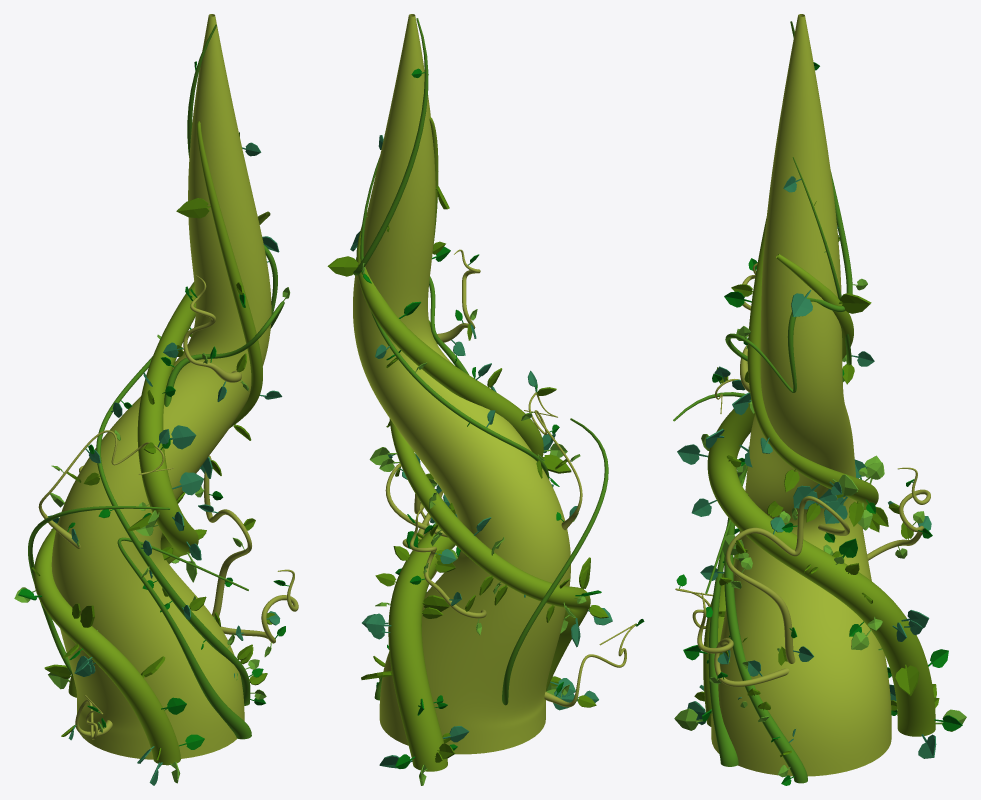
File: Bohnenranke 1.fbx
3 renders of one model, left to right at view 1: azimuth 30°, elevation 25°; view 2: azimuth 150°, elevation 25°; view 3: azimuth 270°, elevation 25°, orthographic. The views are drawn at different scales.
Parts seen in each view (by area): view 1: NurbsPath.001, NurbsPath.003, NurbsPath.002, NurbsPath.004, NurbsPath.009, NurbsPath.014, NurbsPath.005, NurbsPath.010, NurbsPath.006, NurbsPath.011, NurbsPath.008, NurbsPath.007; view 2: NurbsPath.001, NurbsPath.002, NurbsPath.003, NurbsPath.014, NurbsPath.010, NurbsPath.004, NurbsPath.012, NurbsPath.007, NurbsPath.005, NurbsPath.006, NurbsPath.011; view 3: NurbsPath.001, NurbsPath.002, NurbsPath.003, NurbsPath.004, NurbsPath.005, NurbsPath.009, NurbsPath.014, NurbsPath.008, NurbsPath.012.
Boxes of the visible parts, <box> form: NurbsPath.001: <box>51,14,271,759</box>; NurbsPath.003: <box>33,121,262,765</box>; NurbsPath.002: <box>68,211,270,697</box>; NurbsPath.004: <box>96,132,250,705</box>; NurbsPath.009: <box>117,537,251,739</box>; NurbsPath.014: <box>164,24,284,406</box>; NurbsPath.005: <box>196,455,251,616</box>; NurbsPath.010: <box>28,506,170,677</box>; NurbsPath.006: <box>38,430,173,548</box>; NurbsPath.011: <box>183,275,241,382</box>; NurbsPath.008: <box>220,569,298,643</box>; NurbsPath.007: <box>75,695,112,739</box>; NurbsPath.001: <box>353,14,570,754</box>; NurbsPath.002: <box>356,213,543,771</box>; NurbsPath.003: <box>389,117,590,691</box>; NurbsPath.014: <box>353,18,468,374</box>; NurbsPath.010: <box>502,418,608,705</box>; NurbsPath.004: <box>360,156,549,700</box>; NurbsPath.012: <box>409,506,486,618</box>; NurbsPath.007: <box>544,623,636,707</box>; NurbsPath.005: <box>385,463,447,542</box>; NurbsPath.006: <box>524,392,582,530</box>; NurbsPath.011: <box>436,249,480,344</box>; NurbsPath.001: <box>711,14,891,776</box>; NurbsPath.002: <box>707,254,935,736</box>; NurbsPath.003: <box>703,218,878,726</box>; NurbsPath.004: <box>724,157,851,783</box>; NurbsPath.005: <box>725,496,849,663</box>; NurbsPath.009: <box>705,470,747,766</box>; NurbsPath.014: <box>725,21,852,392</box>; NurbsPath.008: <box>697,592,789,686</box>; NurbsPath.012: <box>867,467,930,560</box>.
Bounding box in the file's own units: 492 × 1301 × 454.
